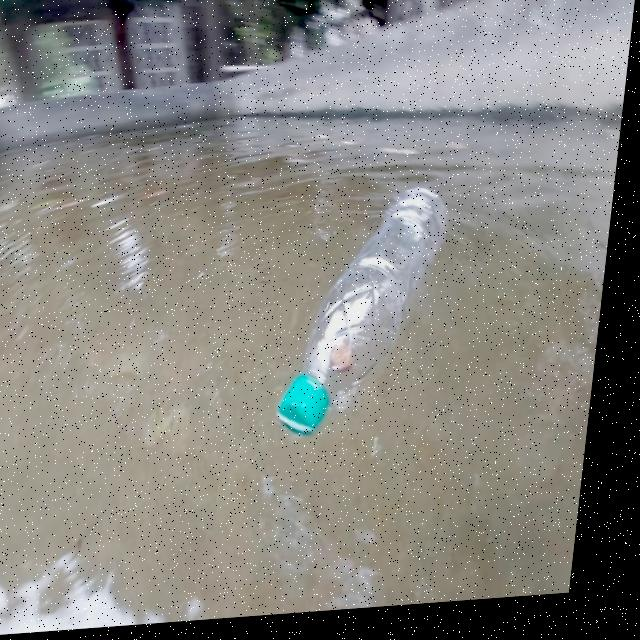waterbottle: (278, 182, 476, 456)
